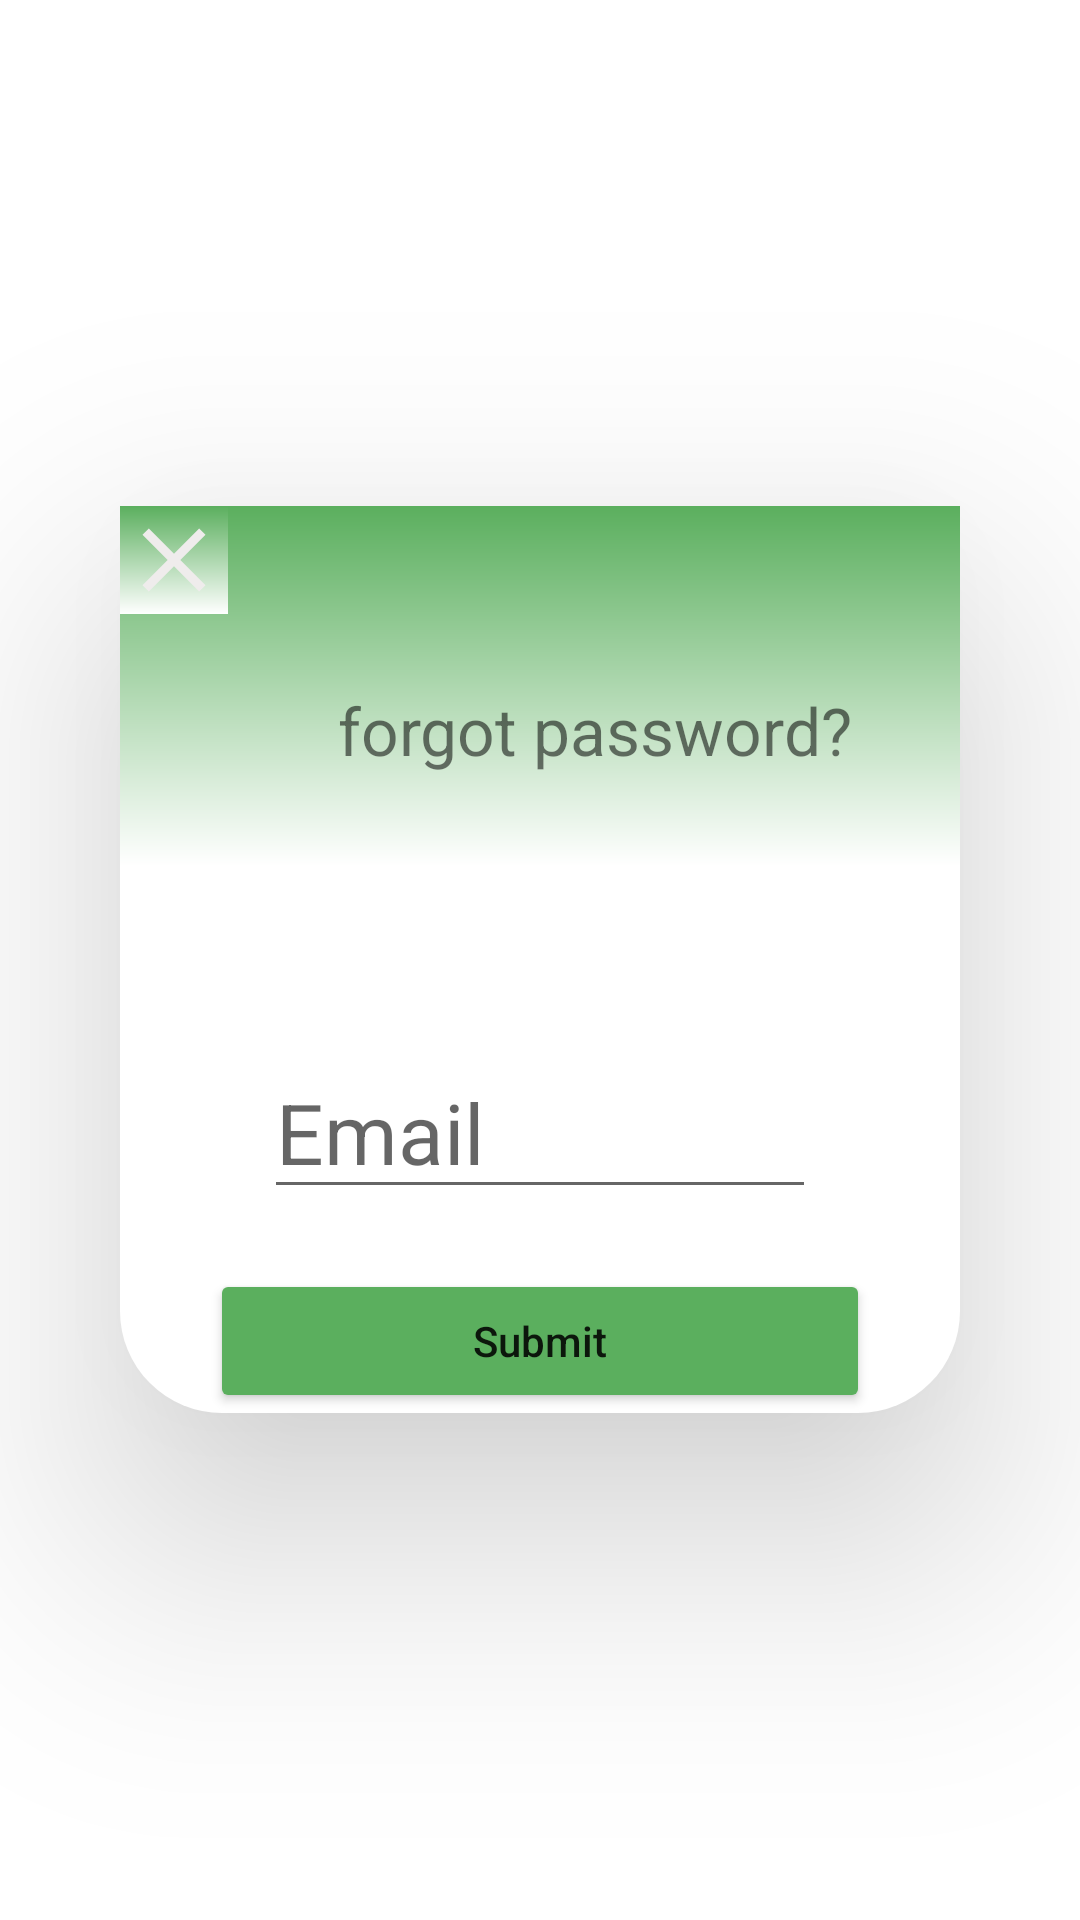

Where to tap for icons on this 1080*1920 app screen, as (x=x, y=y):
close: (x=174, y=560)
